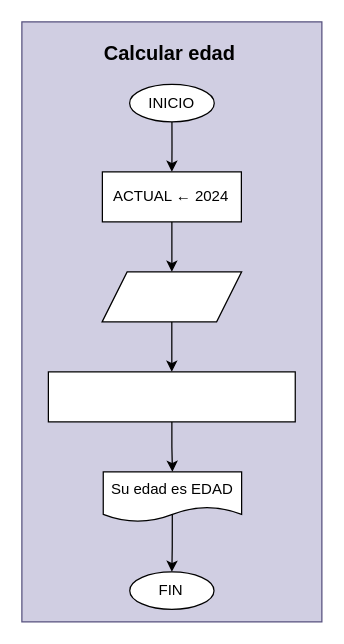
Some shapes in this 344 by 644 pixel diagram are drawn without their labels. The centre of each missing label's shape, as x and y in pixels:
EDAD ← ACTUAL - NACIMIENTO: the point at 171,396
NACIMIENTO: the point at 171,296
